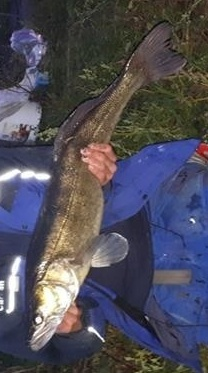Sander lucioperca: (20, 20, 188, 353)
